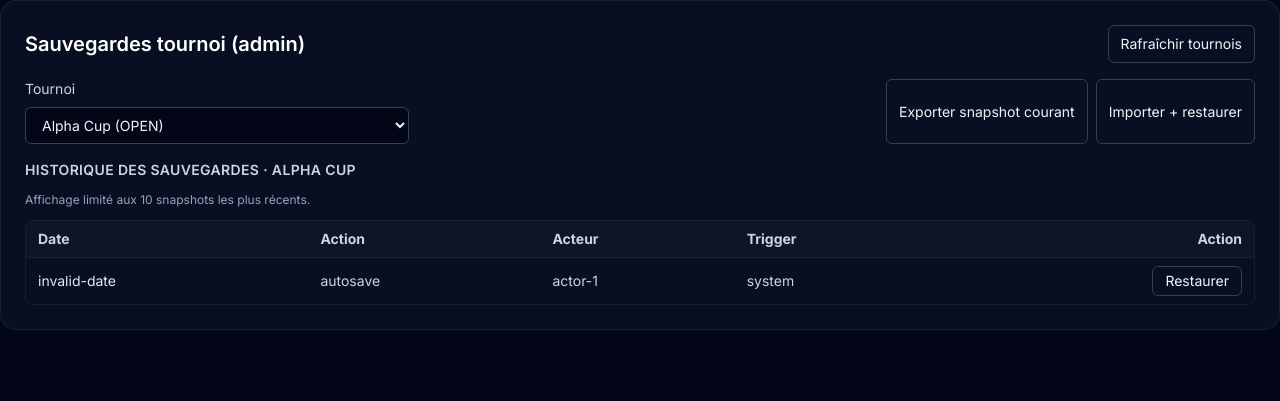
Test case: TournamentSnapshotsView › restores a snapshot by id after confirmation
Check: the text "invalid-date" is shown, box left=26, top=258, right=308, bottom=304
Click the button "Restaurer" at (1197, 281), box left=1152, top=266, right=1242, bottom=296
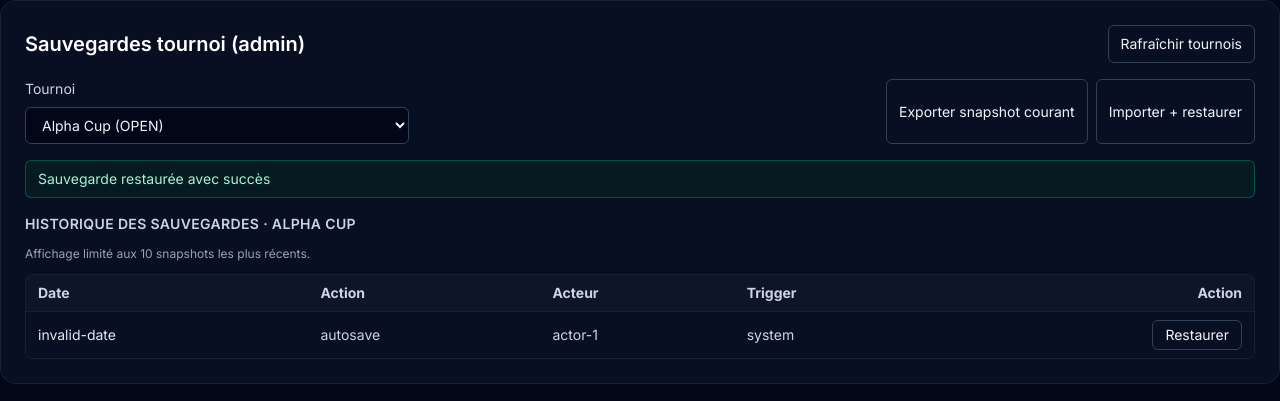
Check: the text "Sauvegarde restaurée avec succès" is shown, box left=25, top=160, right=1255, bottom=198
